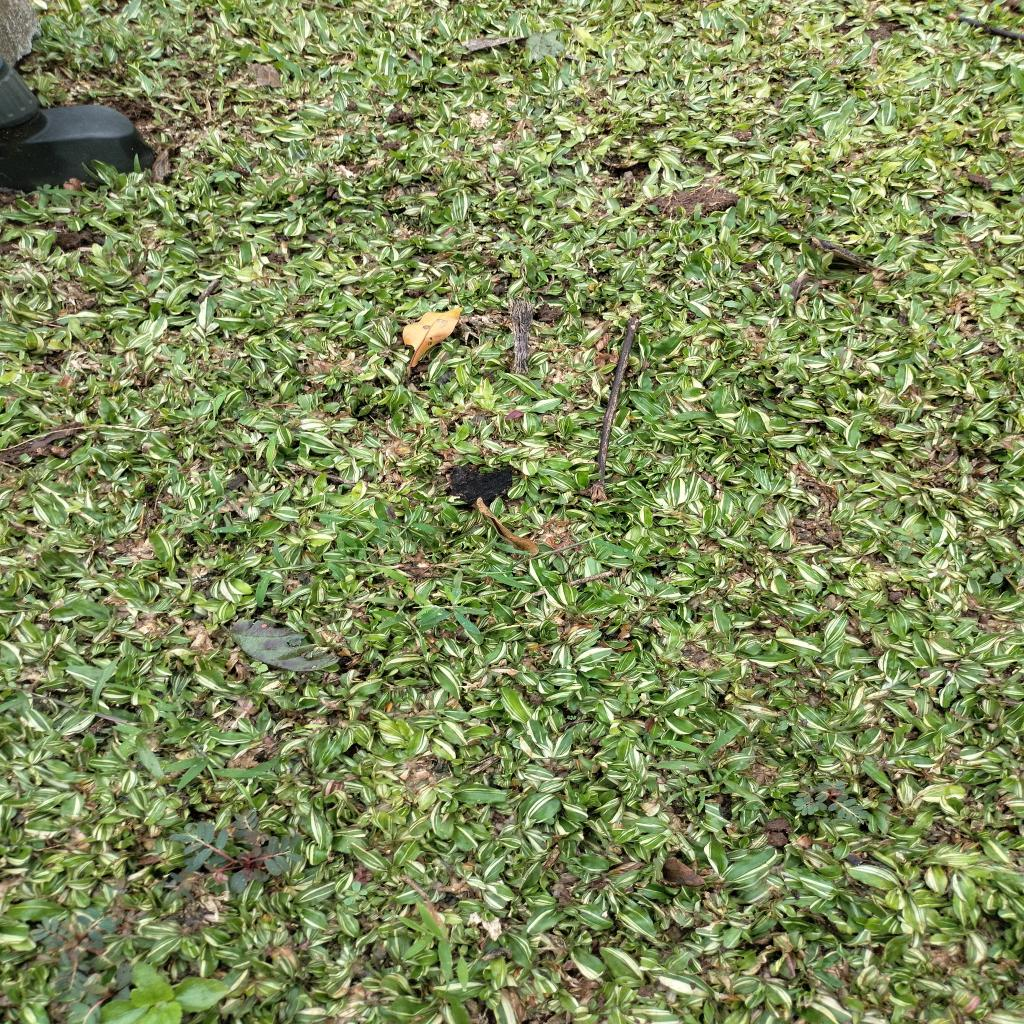bayi: (566, 713, 577, 722)
buah daun: (168, 808, 304, 900), (29, 908, 127, 1002), (792, 778, 872, 828), (344, 881, 367, 906)
rambat atas: (648, 725, 746, 814), (394, 895, 473, 994), (188, 737, 256, 808), (157, 496, 251, 542), (519, 530, 646, 563), (367, 596, 427, 659), (0, 683, 101, 716), (516, 244, 587, 284), (340, 554, 411, 585), (433, 561, 514, 585), (252, 562, 286, 609), (194, 390, 232, 432), (396, 503, 440, 538), (311, 512, 373, 524)
tunggang tengah: (958, 551, 1024, 603), (889, 522, 925, 561)
ungu tunggang: (618, 680, 640, 717)
